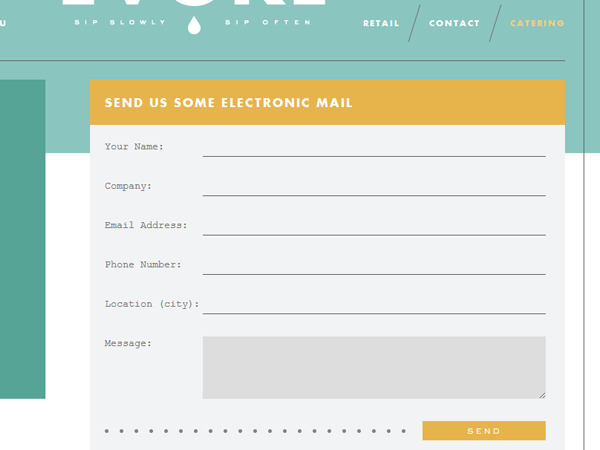_form_: (93, 33, 559, 446)
button: (421, 419, 546, 441)
field: (201, 335, 547, 400)
field_line: (201, 296, 545, 317), (199, 139, 547, 158), (198, 258, 547, 276), (201, 219, 546, 237), (200, 181, 546, 198)
field_line_with_label: (103, 332, 551, 402), (104, 135, 551, 160), (104, 294, 549, 319), (103, 217, 550, 240), (105, 256, 551, 279), (103, 179, 551, 199)
